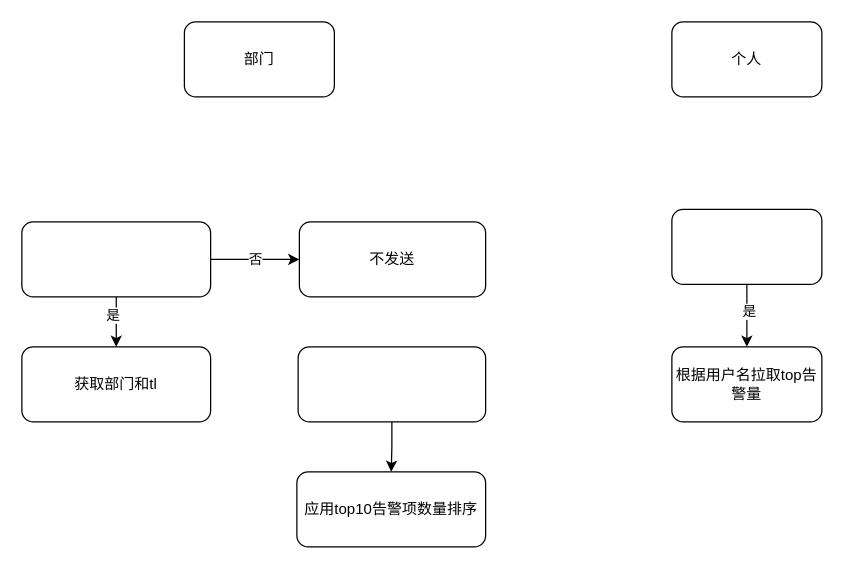
Some shapes in this 844 by 569 pixel diagram are drawn without their labels. Here are the shapes that lost their labels. From the top down, the box of each, then its label:
(21, 221, 211, 297): 所有告警项数量大于100
(671, 208, 822, 284): 周日均告警数量是否大于100
(297, 346, 486, 422): 部门top10应用告警数量排序
